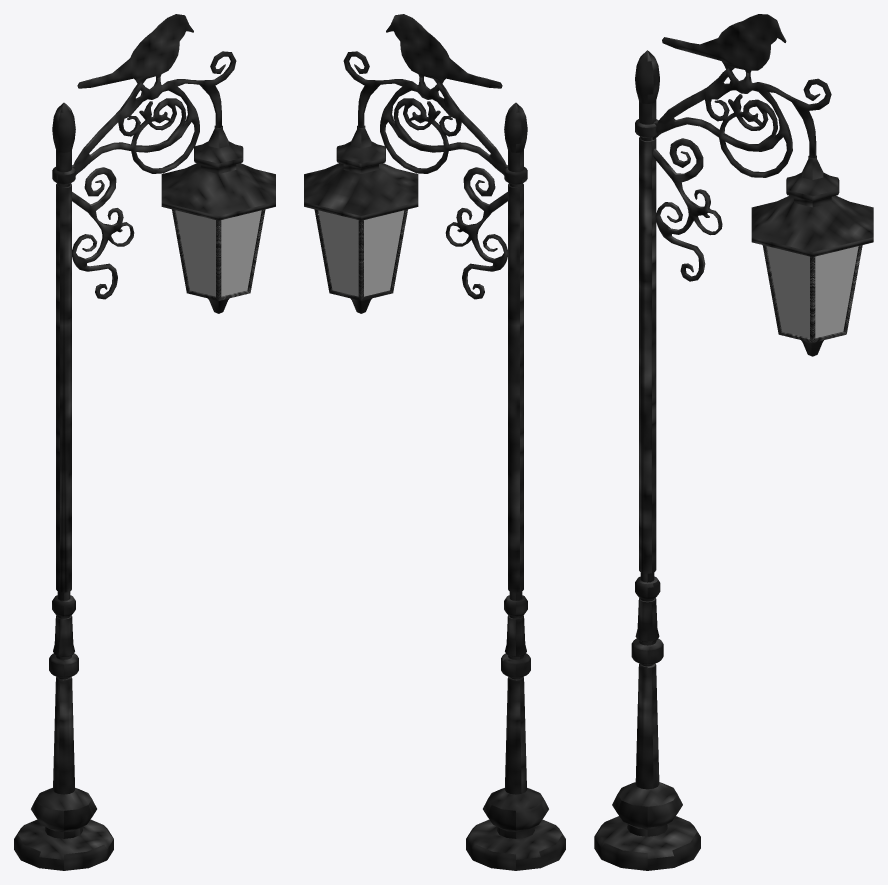
File: luminaria_text.obj
The picture shows the model from 3 angles, left to right: view 1: azimuth 30°, elevation 25°; view 2: azimuth 150°, elevation 25°; view 3: azimuth 330°, elevation 25°; orthographic projection. The views are drawn at different scales.
Visible parts, largest first — view 1: rv_lamp_post_4; view 2: rv_lamp_post_4; view 3: rv_lamp_post_4.
Part boxes in pixels (left/top/right/bottom): rv_lamp_post_4: left=14, top=14, right=275, bottom=870; rv_lamp_post_4: left=304, top=14, right=565, bottom=870; rv_lamp_post_4: left=594, top=14, right=873, bottom=870.
Size of the model in its own units: 8.08 by 24.47 by 3.14.
